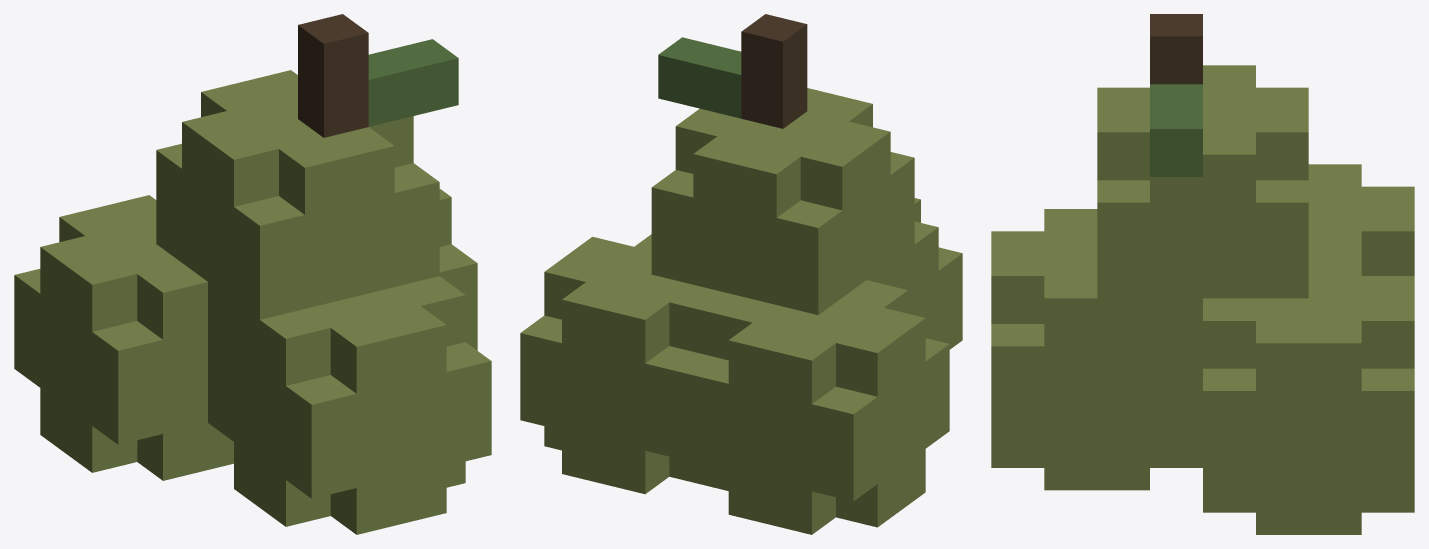
File: hops.glb
3 views of the same model, side by side, from view 1: azimuth 30°, elevation 25°; view 2: azimuth 150°, elevation 25°; view 3: azimuth 270°, elevation 25° (orthographic). The views are drawn at different scales.
Visible parts, largest first — view 1: VoxelVisual; view 2: VoxelVisual; view 3: VoxelVisual.
Boxes of the visible parts, x1=… form: VoxelVisual: x1=14, y1=14, x2=491, y2=534; VoxelVisual: x1=520, y1=14, x2=962, y2=534; VoxelVisual: x1=991, y1=14, x2=1414, y2=534.
Size of what is drawn, in the model's own units: 0.5 by 0.5625 by 0.5.
